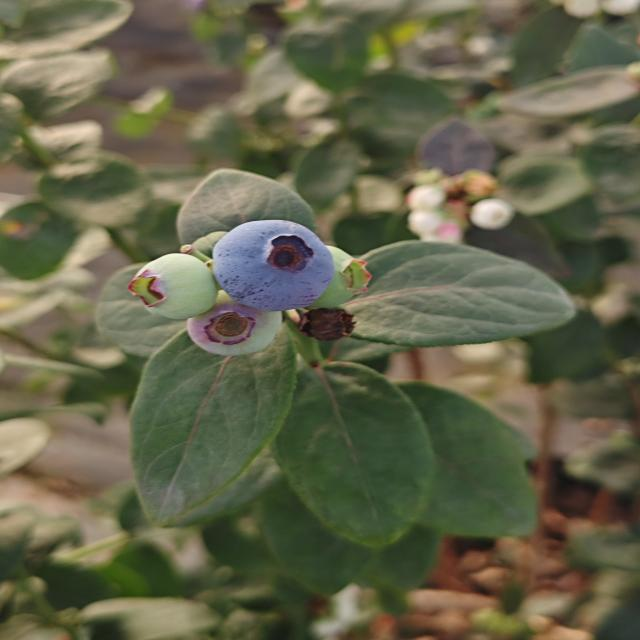ripe: (209, 218, 337, 313)
